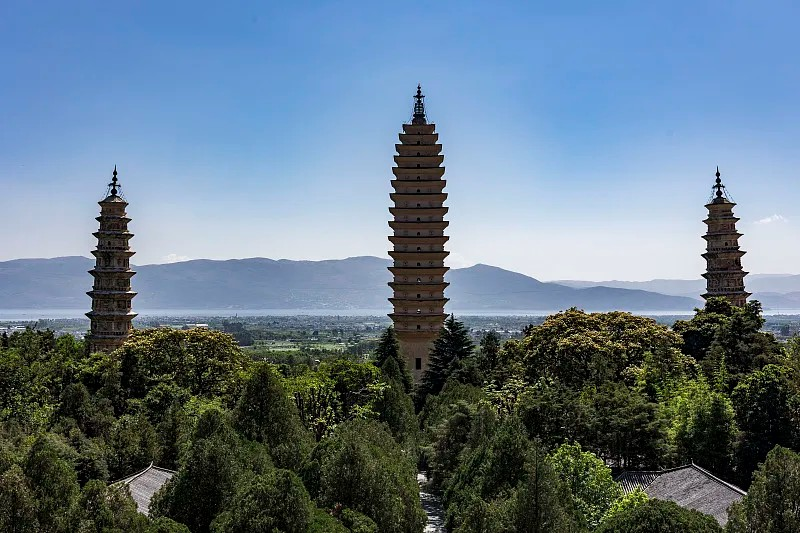ThreePagoda: (387, 84, 450, 379)
